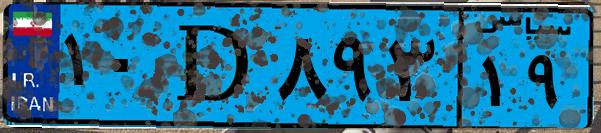0: (110, 28, 158, 98)
1: (57, 26, 110, 100), (475, 38, 525, 113)
3: (385, 28, 445, 110)
8: (270, 28, 330, 110)
9: (330, 28, 385, 110), (525, 38, 570, 115)
D: (158, 12, 270, 120)
